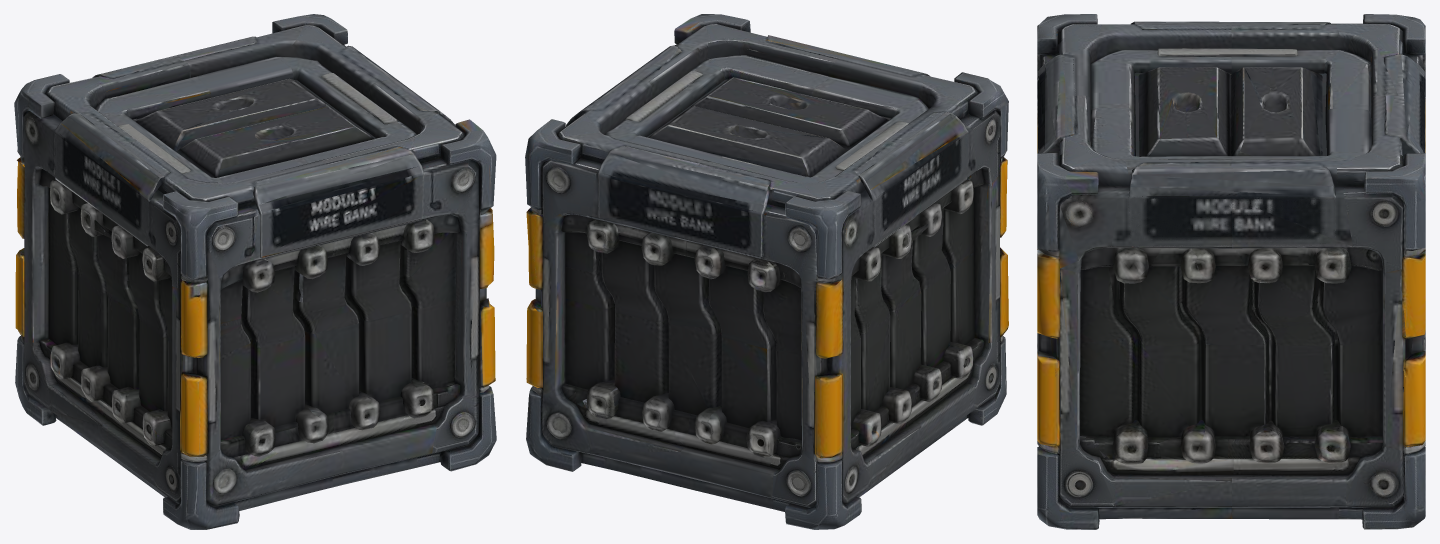
File: WireBox.glb
3 renders of one model, left to right at view 1: azimuth 30°, elevation 25°; view 2: azimuth 150°, elevation 25°; view 3: azimuth 270°, elevation 25°, orthographic. The views are drawn at different scales.
Bounding box in the file's own units: 1 × 1 × 1.
Materials: 1 (1 with a texture image).
